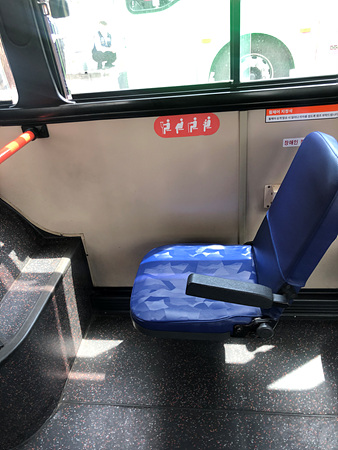seat: (133, 133, 338, 327)
